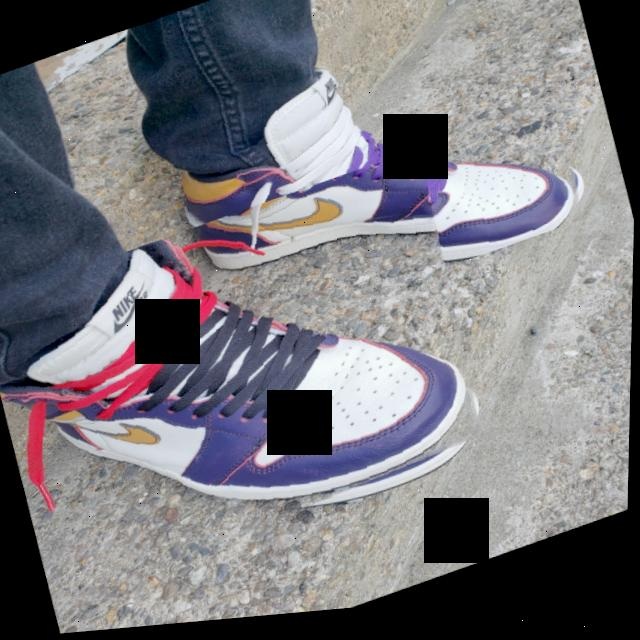shoe: (0, 148, 505, 616), (158, 0, 601, 356)
